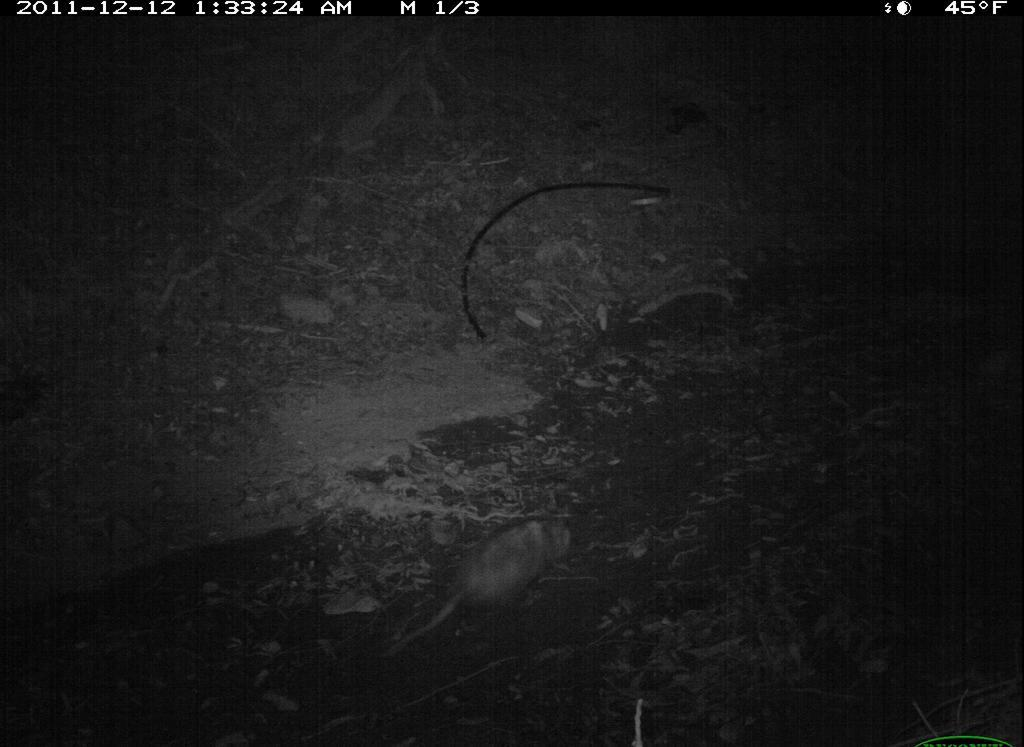opossum: (389, 504, 597, 666)
